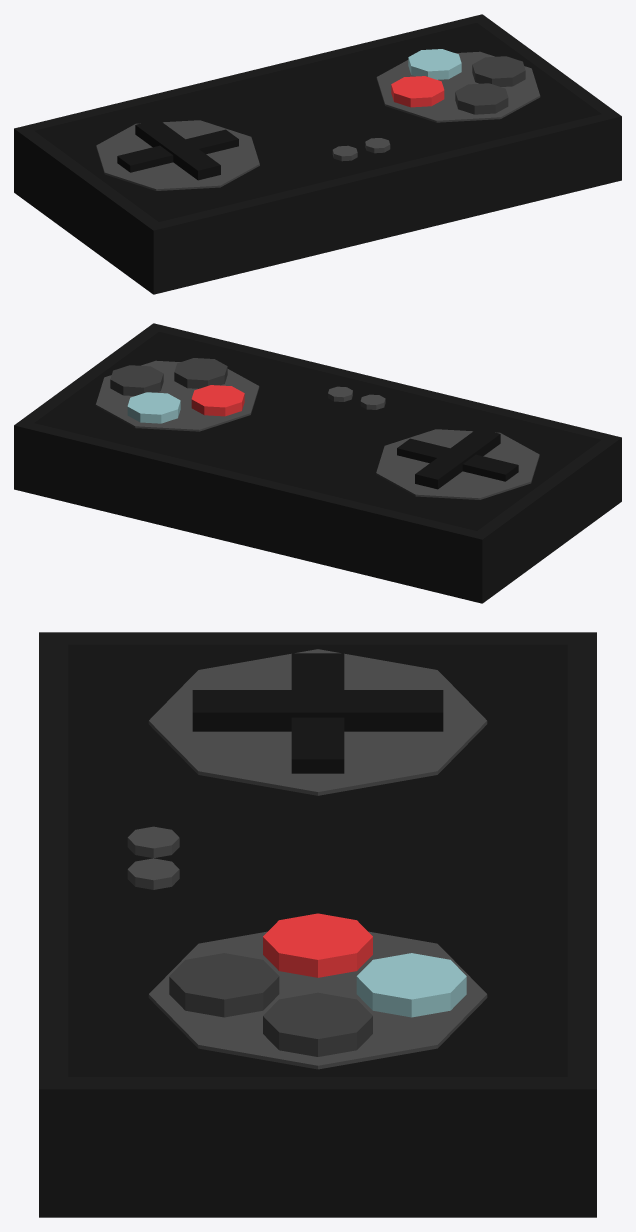
Rendered from Itr_Obj_Console_Controller_02.FBX.
The picture shows the model from 3 angles, top to bottom: view 1: azimuth 30°, elevation 25°; view 2: azimuth 150°, elevation 25°; view 3: azimuth 270°, elevation 25°; orthographic projection. The views are drawn at different scales.
Parts seen in each view (by area): view 1: Itr_Obj_Console_Controller_02; view 2: Itr_Obj_Console_Controller_02; view 3: Itr_Obj_Console_Controller_02.
Boxes of the visible parts, x1=… form: Itr_Obj_Console_Controller_02: x1=14, y1=14, x2=621, y2=294; Itr_Obj_Console_Controller_02: x1=14, y1=323, x2=621, y2=603; Itr_Obj_Console_Controller_02: x1=39, y1=632, x2=596, y2=1217.
Bounding box in the file's own units: 4.9 × 0.7554 × 2.53.
